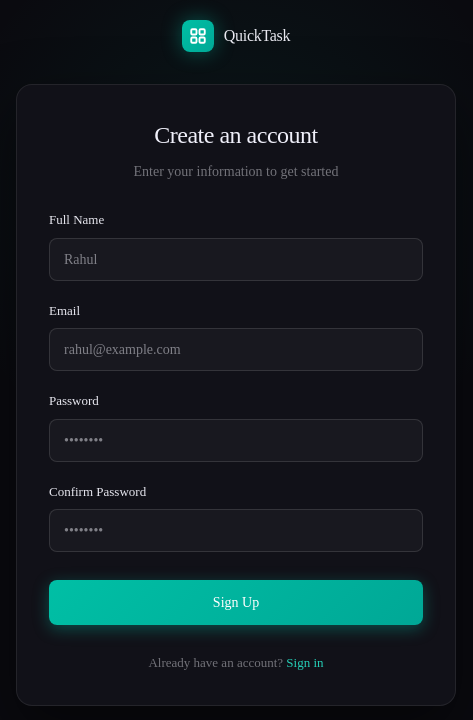
Test: SignupPage › should show validation error for password mismatch
The image size is (473, 720).
Type "John Doe" into the field labelled "Full Name".
click(236, 259); type("John Doe")  # box [49, 238, 423, 280]
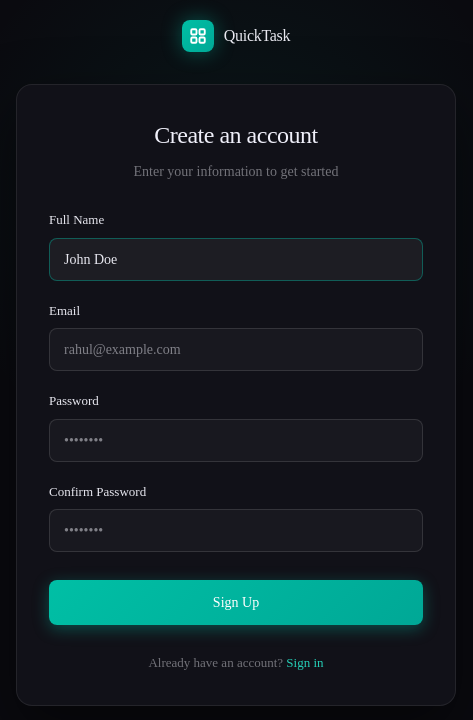
Type "john@example.com" into the field labelled "Email".
click(236, 350); type("john@example.com")  # box [49, 328, 423, 371]
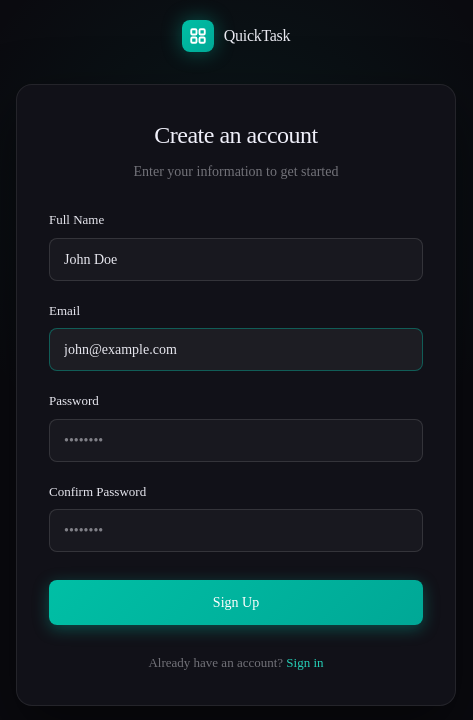
Type "password123" into the password field labelled "Password".
click(236, 440); type("password123")  # box [49, 418, 423, 462]
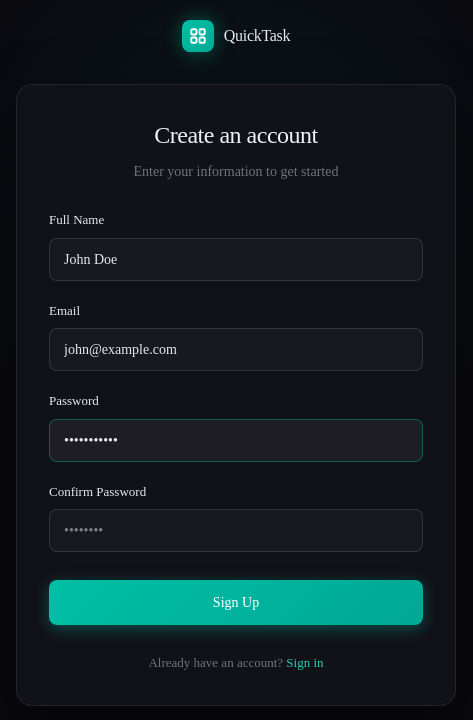
Type "different123" into the password field labelled "Confirm Password".
click(236, 530); type("different123")  # box [49, 509, 423, 552]
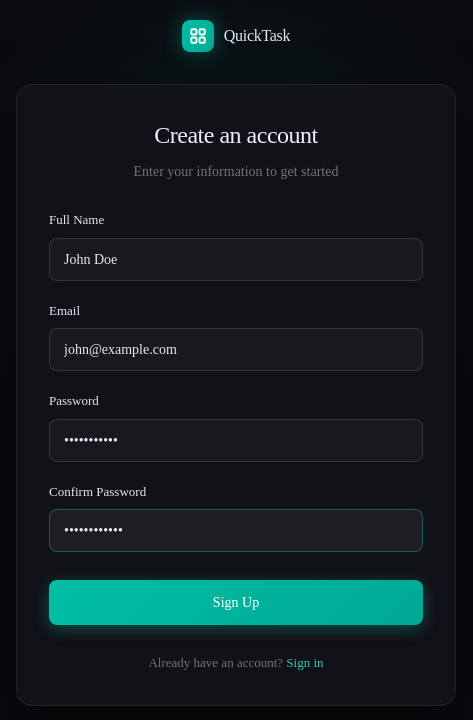
Click the button "Sign Up".
click(236, 602)  # box [49, 580, 423, 625]
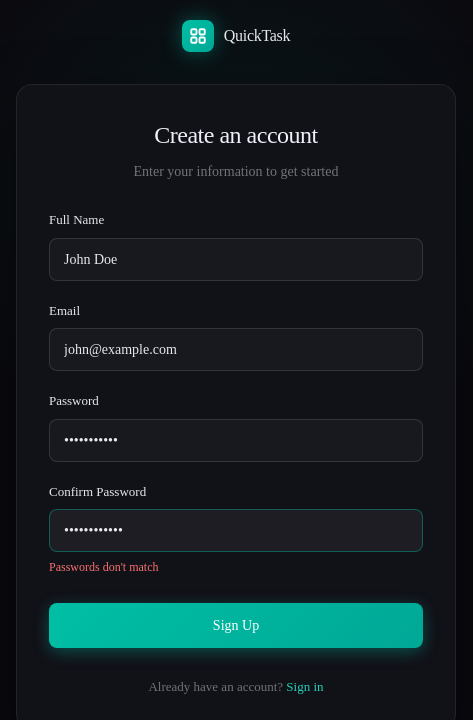
Now the text "Passwords don't match" is shown, box [49, 560, 158, 574]
